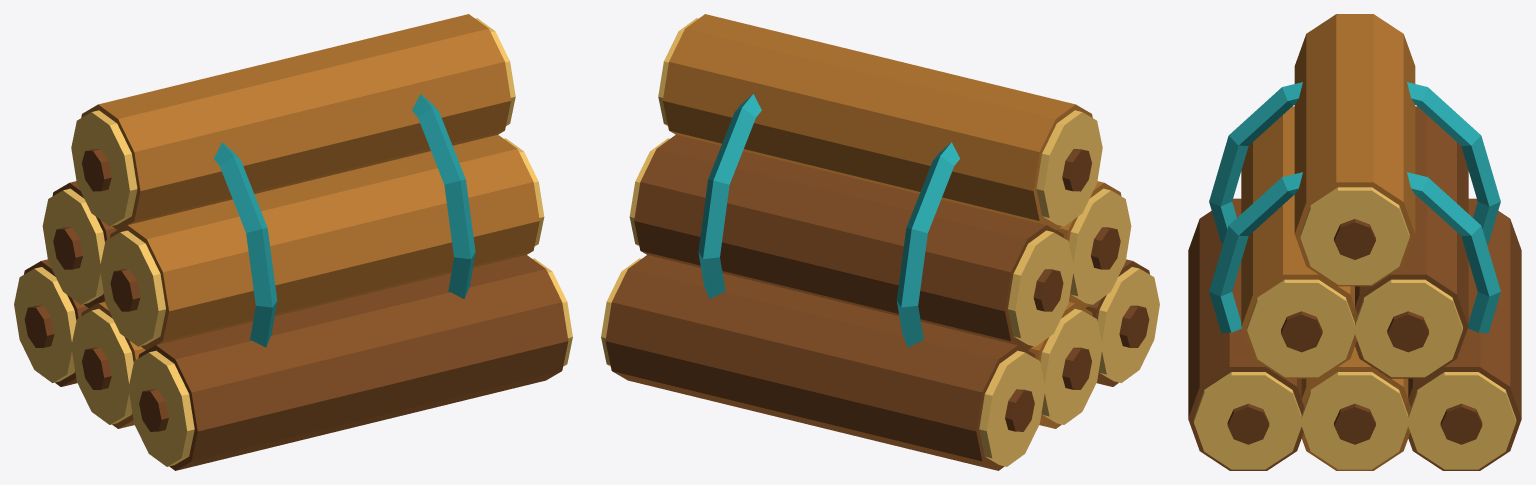
The model's file is timber.glb.
3 views of the same model, side by side, from view 1: azimuth 30°, elevation 25°; view 2: azimuth 150°, elevation 25°; view 3: azimuth 270°, elevation 25° (orthographic). The views are drawn at different scales.
Visible parts, largest first — view 1: timber-log-0, timber-log-5, timber-log-3, timber-cut-end-0-0, timber-cut-end-3-0, timber-cut-end-5-0, timber-binding-strap-0, timber-binding-strap-1, timber-cut-end-4-0, timber-cut-end-1-0, timber-cut-end-2-0, timber-growth-ring-2-0 (+8 smaller); view 2: timber-log-2, timber-log-5, timber-log-4, timber-cut-end-2-0, timber-cut-end-4-0, timber-cut-end-5-0, timber-binding-strap-0, timber-binding-strap-1, timber-cut-end-3-0, timber-cut-end-1-0, timber-cut-end-0-0, timber-growth-ring-0-0 (+8 smaller); view 3: timber-log-5, timber-log-3, timber-log-4, timber-binding-strap-1, timber-log-0, timber-log-2, timber-binding-strap-0, timber-cut-end-3-1, timber-cut-end-4-1, timber-cut-end-5-1, timber-cut-end-0-1, timber-cut-end-2-1 (+8 smaller).
Part boxes in pixels (x1,y1,x2,y2): timber-log-0: [138, 255, 568, 470]; timber-log-5: [81, 14, 510, 230]; timber-log-3: [110, 135, 539, 350]; timber-cut-end-0-0: [129, 350, 194, 466]; timber-cut-end-3-0: [100, 230, 165, 346]; timber-cut-end-5-0: [71, 110, 137, 226]; timber-binding-strap-0: [214, 142, 277, 347]; timber-binding-strap-1: [412, 94, 475, 298]; timber-cut-end-4-0: [42, 188, 104, 304]; timber-cut-end-1-0: [71, 309, 133, 424]; timber-cut-end-2-0: [14, 267, 76, 382]; timber-growth-ring-2-0: [24, 305, 54, 347]; timber-log-2: [605, 255, 1035, 470]; timber-log-5: [663, 14, 1092, 230]; timber-log-4: [634, 135, 1063, 350]; timber-cut-end-2-0: [979, 350, 1045, 466]; timber-cut-end-4-0: [1008, 230, 1073, 346]; timber-cut-end-5-0: [1036, 110, 1102, 226]; timber-binding-strap-0: [896, 142, 959, 347]; timber-binding-strap-1: [698, 94, 761, 298]; timber-cut-end-3-0: [1069, 188, 1131, 304]; timber-cut-end-1-0: [1040, 309, 1102, 424]; timber-cut-end-0-0: [1097, 267, 1159, 382]; timber-growth-ring-0-0: [1119, 305, 1149, 347]; timber-log-5: [1294, 14, 1415, 286]; timber-log-3: [1241, 106, 1357, 378]; timber-log-4: [1353, 106, 1468, 378]; timber-binding-strap-1: [1209, 172, 1500, 333]; timber-log-0: [1188, 198, 1304, 470]; timber-log-2: [1406, 198, 1521, 470]; timber-binding-strap-0: [1209, 82, 1500, 243]; timber-cut-end-3-1: [1247, 279, 1355, 377]; timber-cut-end-4-1: [1354, 279, 1462, 377]; timber-cut-end-5-1: [1300, 187, 1409, 284]; timber-cut-end-0-1: [1193, 372, 1302, 469]; timber-cut-end-2-1: [1407, 372, 1516, 469].
Bounding box in the file's own units: 1.35 × 1 × 1.05.
